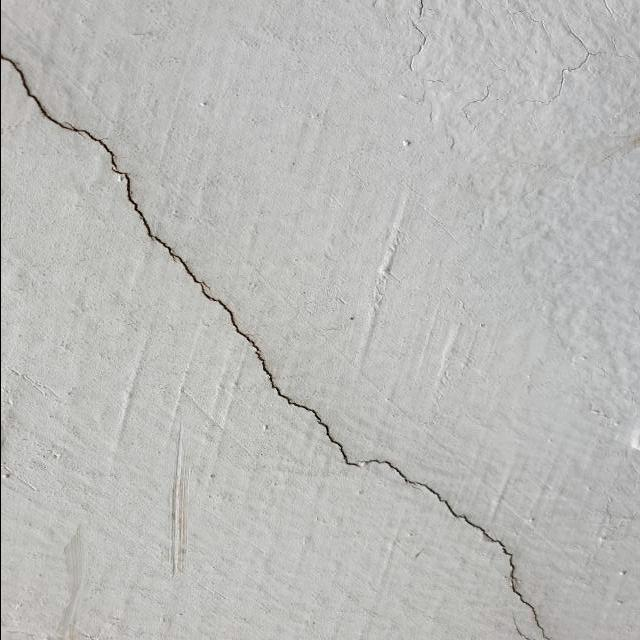SurfaceCrack: (2, 0, 639, 640)
